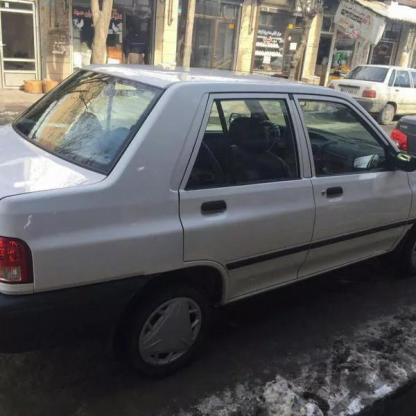Car: (0, 66, 416, 361), (330, 64, 416, 122), (391, 106, 416, 173)
